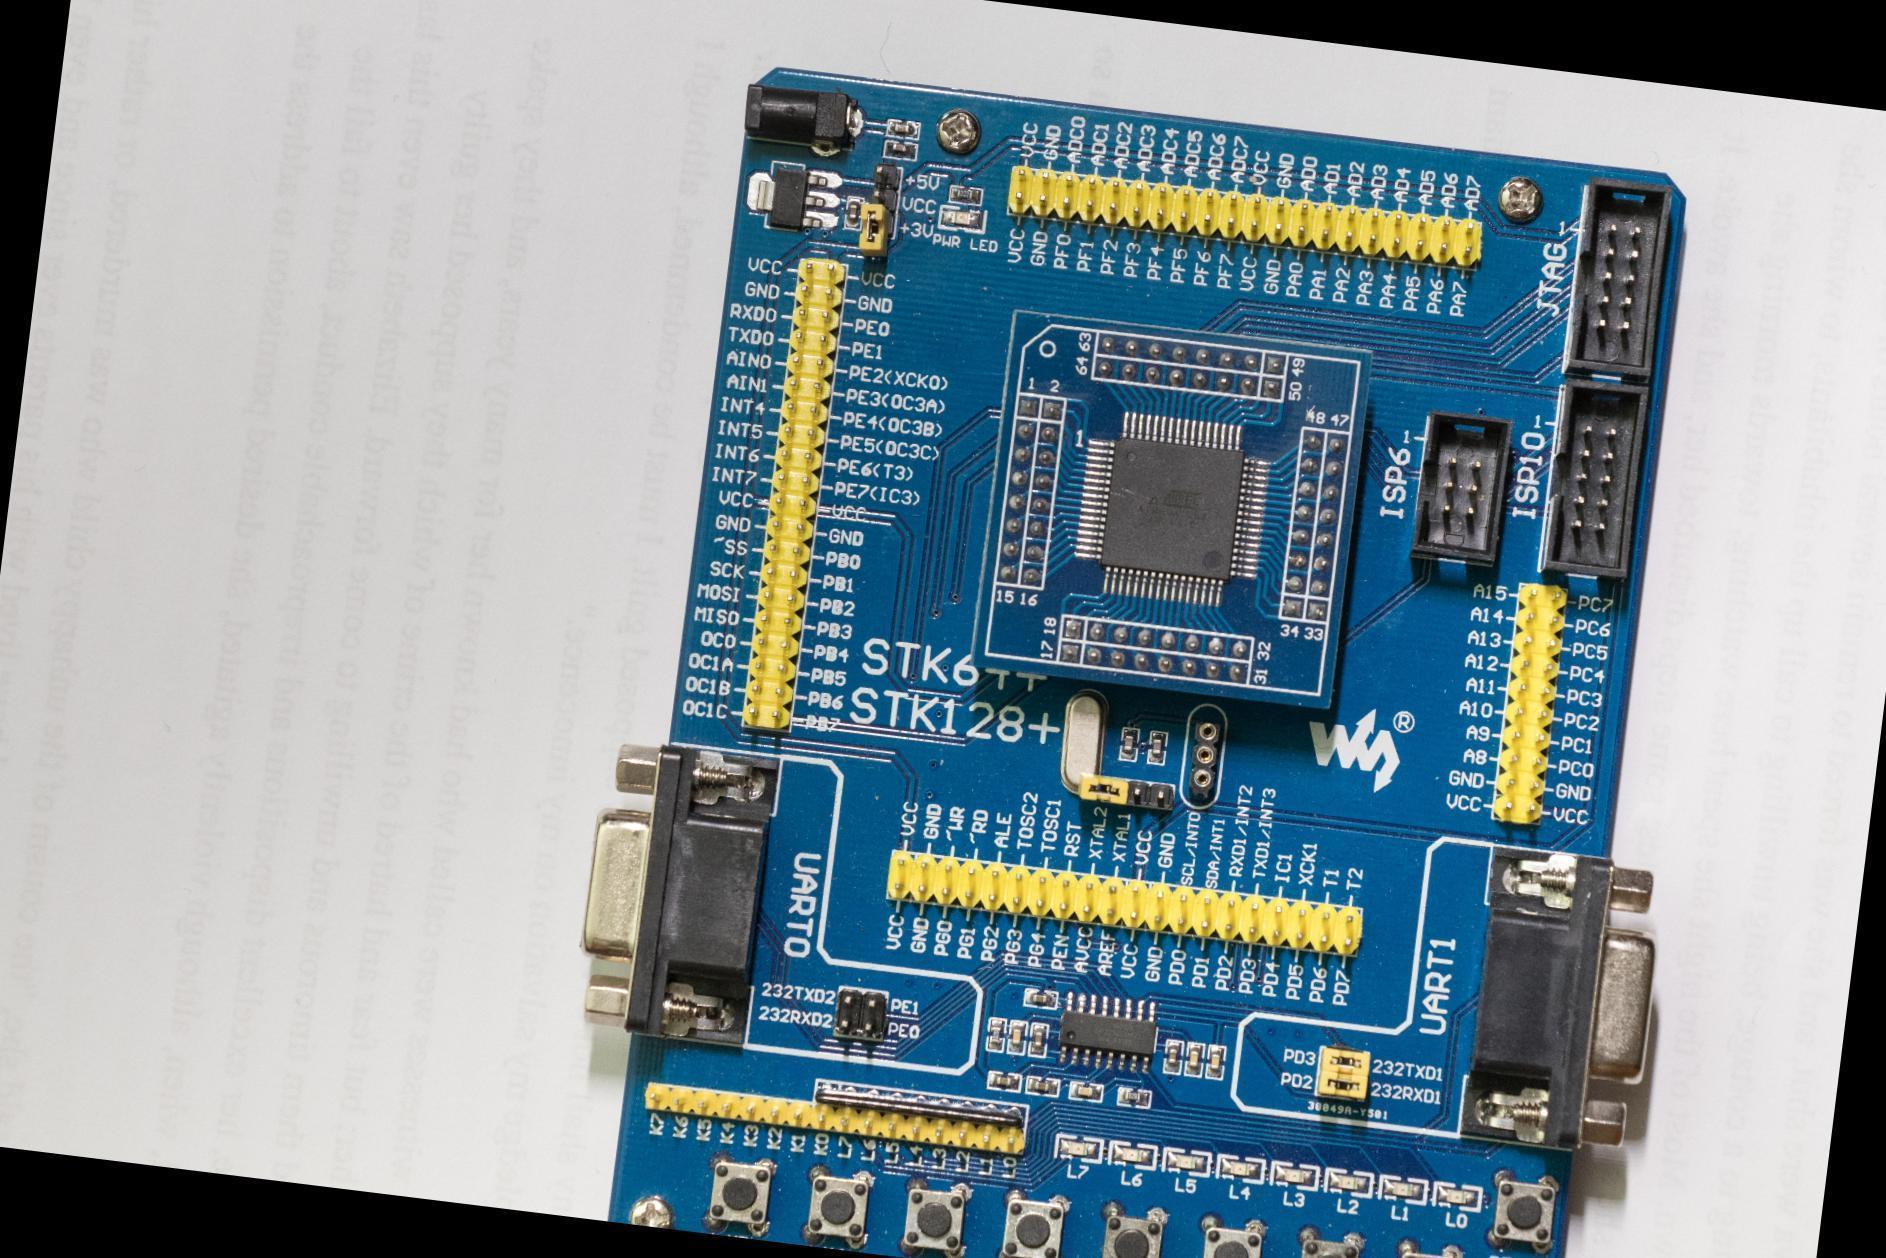Button: (797, 1164, 874, 1252), (702, 1151, 779, 1238), (1486, 1169, 1561, 1256), (897, 1176, 974, 1257), (994, 1186, 1072, 1257), (1095, 1201, 1171, 1257), (1189, 1213, 1268, 1257), (1286, 1223, 1368, 1257), (1389, 1236, 1467, 1257)
Capacitor: (1183, 1042, 1206, 1078), (1204, 1044, 1227, 1081), (1067, 1081, 1103, 1103), (1006, 1020, 1027, 1057), (1027, 1023, 1049, 1059), (1024, 1074, 1060, 1097), (987, 1070, 1022, 1093), (1163, 1039, 1185, 1076), (886, 118, 920, 139), (843, 194, 863, 230), (1023, 988, 1057, 1009), (882, 142, 916, 162)
Connector: (1456, 842, 1674, 1157), (570, 735, 785, 1050), (884, 849, 1365, 957), (1006, 162, 1486, 270), (743, 257, 846, 735), (642, 1080, 1028, 1157), (1540, 380, 1651, 581), (1566, 177, 1675, 379), (1489, 580, 1570, 828), (1411, 409, 1511, 565), (741, 81, 861, 153), (1175, 700, 1230, 811), (832, 988, 889, 1042), (1125, 777, 1177, 812), (871, 161, 903, 189), (866, 186, 898, 212)
IC: (1071, 408, 1275, 610), (1054, 991, 1160, 1075), (743, 157, 844, 234)
Led: (1431, 1180, 1484, 1212), (1269, 1161, 1321, 1194), (1215, 1153, 1266, 1185), (1378, 1174, 1429, 1206), (1322, 1167, 1374, 1198), (1163, 1147, 1213, 1176), (1108, 1141, 1158, 1170), (1056, 1135, 1101, 1162), (939, 206, 986, 232)
Pins: (1279, 426, 1353, 626), (1090, 329, 1290, 403), (1056, 614, 1254, 687), (995, 392, 1067, 591)
Resistor: (1117, 1087, 1153, 1109), (986, 1017, 1007, 1053), (947, 185, 983, 206)
